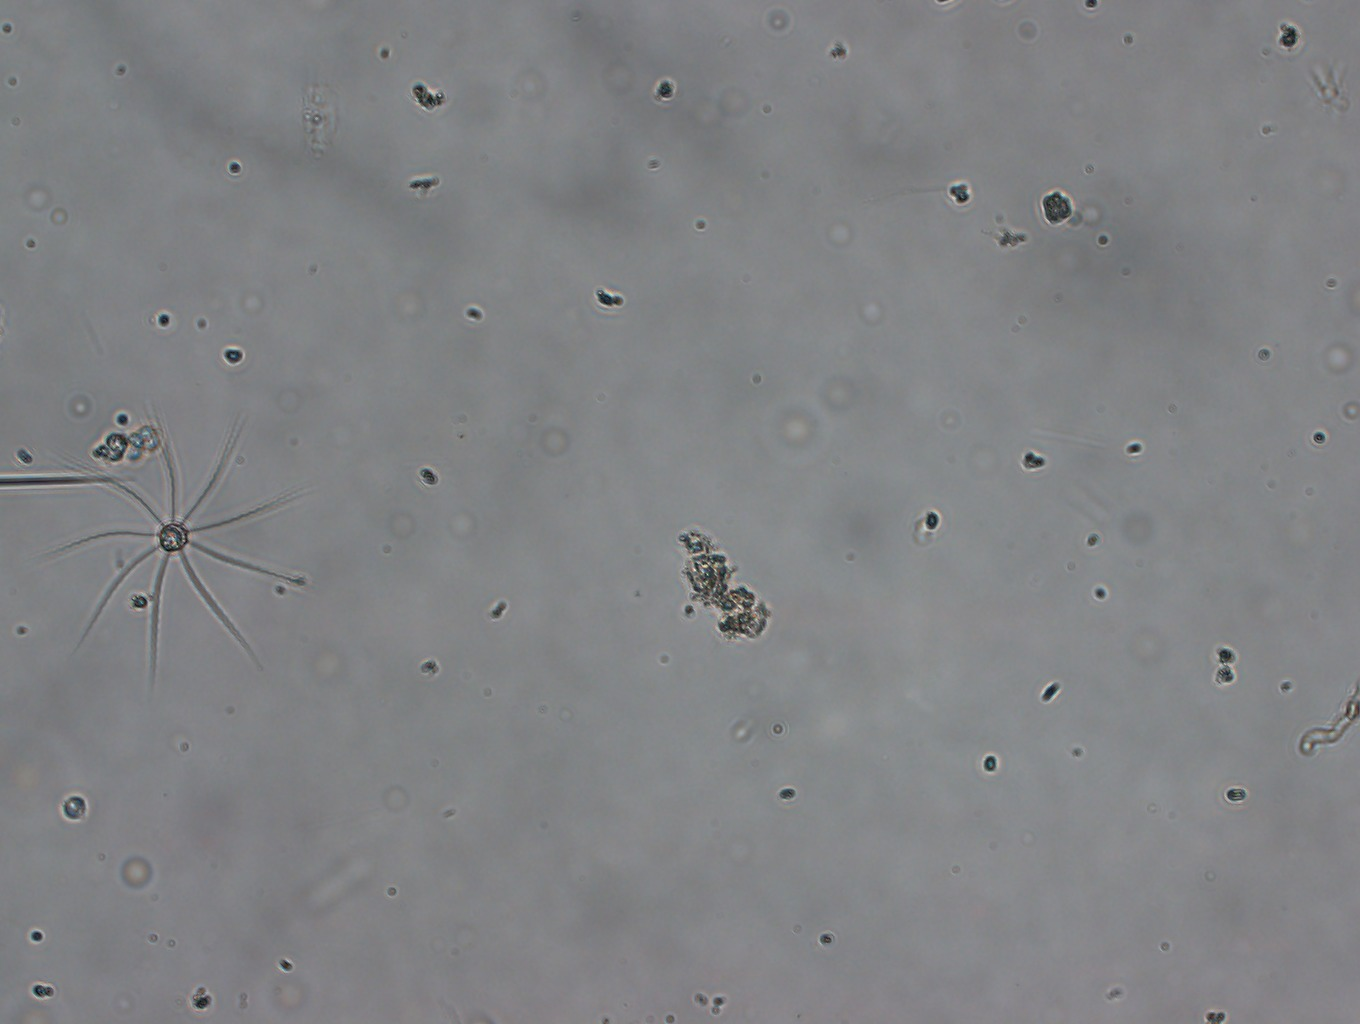bacteriastrum: (60, 396, 295, 678)
